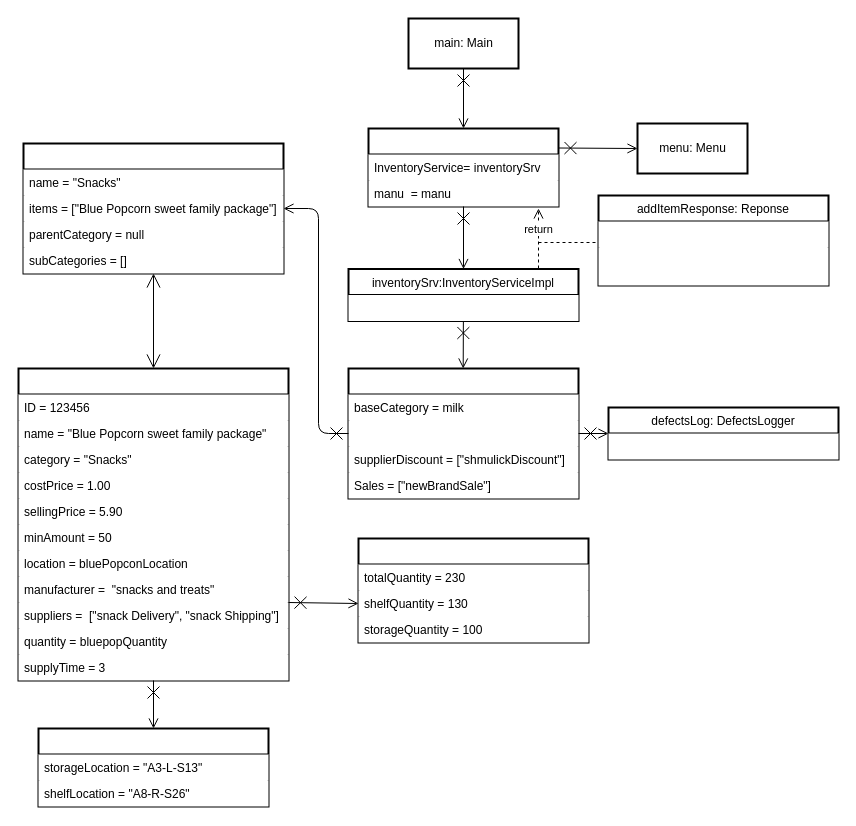
Some shapes in this 856 by 826 pixel diagram are drawn without their labels. The box of each missing label's shape, as (x1, y1, x2, y2) in pixels:
bluePopcorn: Item: (17, 367, 289, 681)
bluepopQuantity: Quantity: (357, 537, 589, 643)
controller:PersentationController: (367, 127, 559, 207)
defects = []: (608, 433, 838, 459)
defectsLogger = defactsLog: (348, 420, 578, 446)
errorOccurred = false: (598, 221, 828, 247)
InventoryController = invntoryController: (348, 294, 578, 320)
invntoryController: InventoryController: (347, 367, 579, 499)
message = "New Item:Blue Popcorn sweet family package was added": (598, 247, 828, 285)
milkLocation: Location: (37, 727, 269, 807)
snacks: Category: (22, 142, 284, 274)
